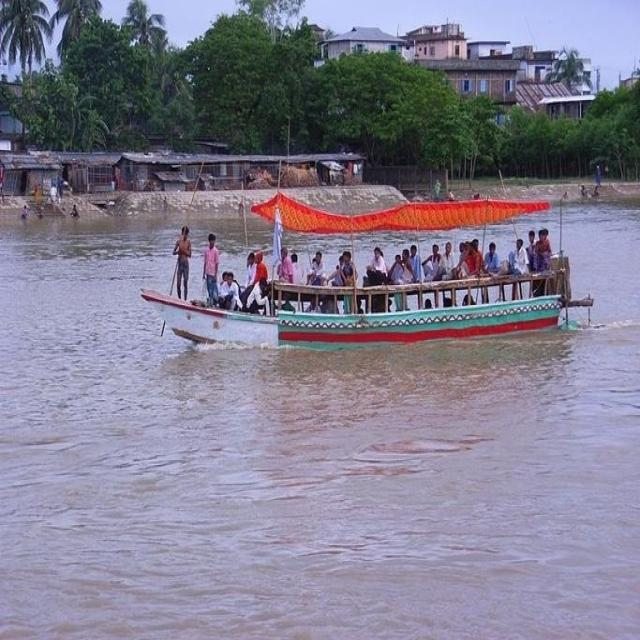boat: (139, 276, 589, 352)
